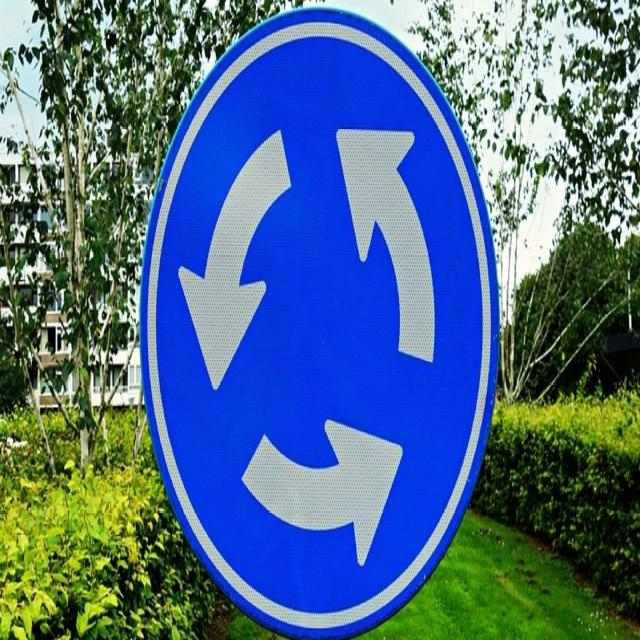roundabout: (140, 5, 502, 637)
